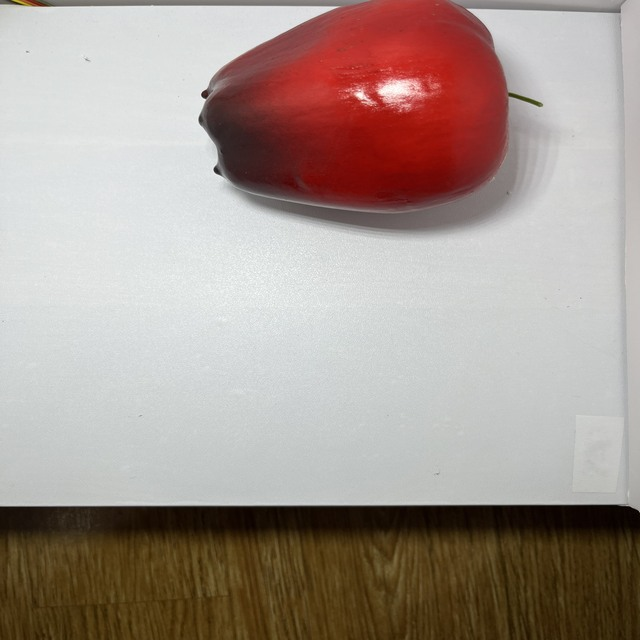Tao: (188, 0, 517, 219)
